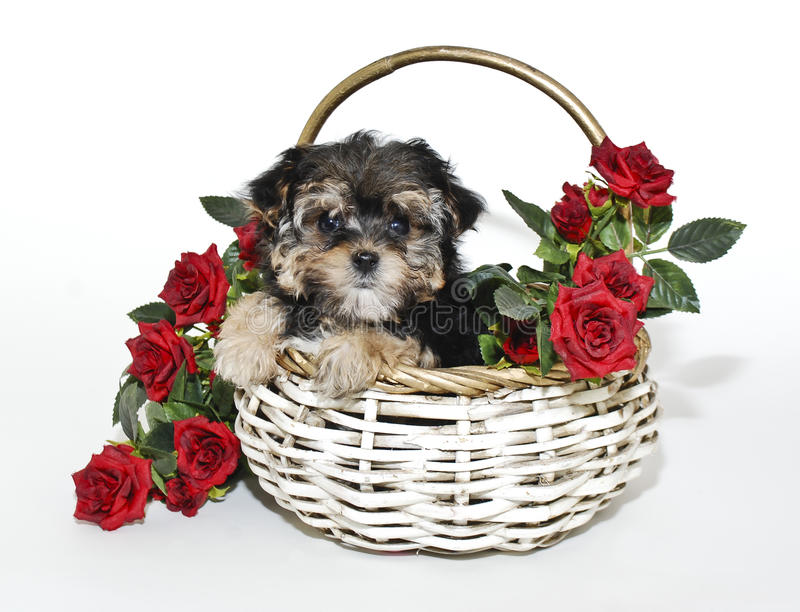RedRose: (545, 280, 649, 383), (59, 437, 155, 533), (586, 128, 681, 207), (118, 315, 196, 400), (156, 239, 227, 332), (163, 410, 244, 489), (576, 250, 658, 310), (540, 179, 600, 246), (233, 209, 273, 276), (496, 321, 543, 373), (158, 476, 214, 517), (581, 177, 611, 207)
